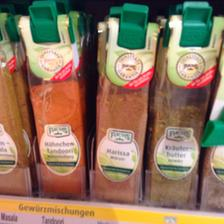Gewuerze: (148, 17, 220, 203), (17, 14, 87, 196), (92, 18, 156, 202)
